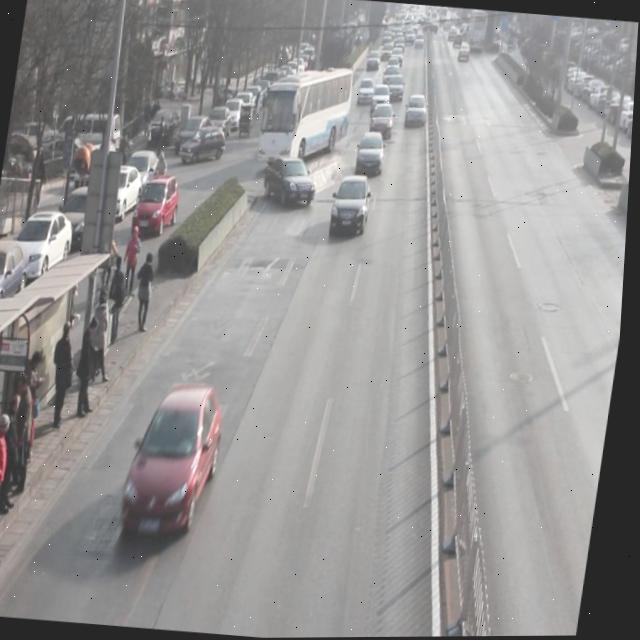car: (120, 386, 232, 549), (261, 156, 321, 212), (329, 176, 374, 240), (354, 132, 388, 181), (368, 105, 397, 143), (402, 95, 431, 133)
van: (257, 62, 357, 170)
